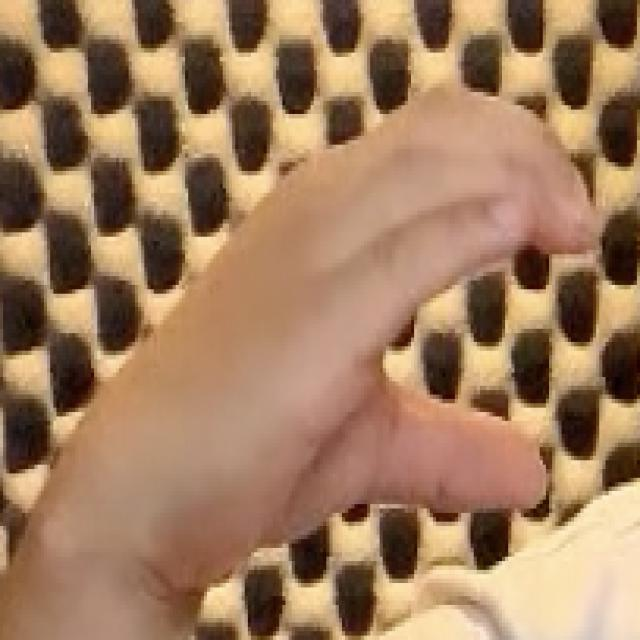C: (49, 47, 610, 609)
